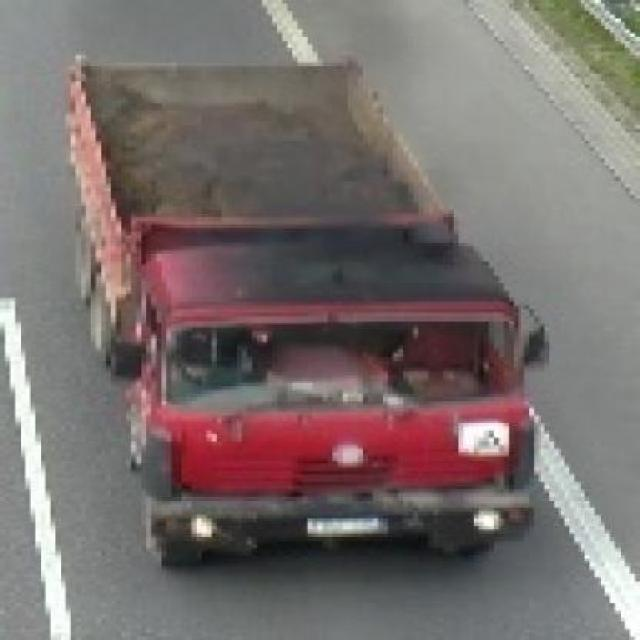truck: (57, 52, 551, 608)
